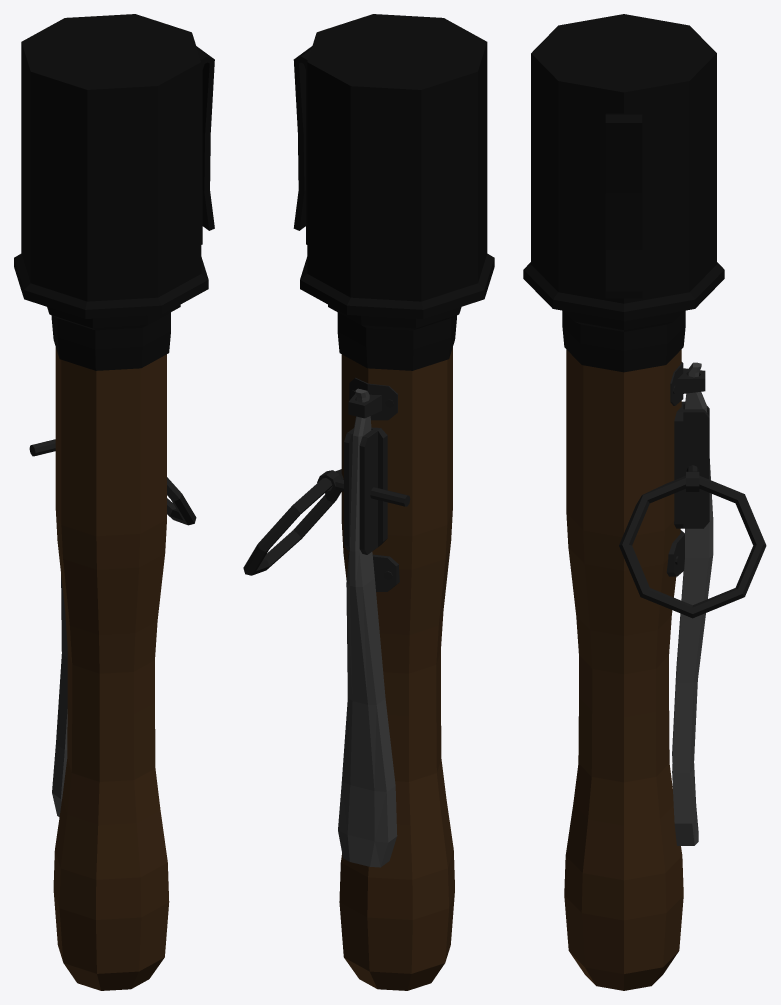
Rendered from Stielhandgranate Impact 1.obj.
3 renders of one model, left to right at view 1: azimuth 30°, elevation 25°; view 2: azimuth 150°, elevation 25°; view 3: azimuth 270°, elevation 25°, orthographic.
Parts seen in each view (by area): view 1: Stielhandgranate_Impact_1, Stielhandgranate_Impact_1_Spoon_Safety_1, Stielhandgranate_Impact_1_Pin_Handle_1; view 2: Stielhandgranate_Impact_1, Stielhandgranate_Impact_1_Spoon_Safety_1, Stielhandgranate_Impact_1_Pin_Handle_1, Stielhandgranate_Impact_1_Pin_1; view 3: Stielhandgranate_Impact_1, Stielhandgranate_Impact_1_Spoon_Safety_1, Stielhandgranate_Impact_1_Pin_Handle_1.
Part boxes in pixels (x1=…): Stielhandgranate_Impact_1: x1=14, y1=14, x2=214, y2=990; Stielhandgranate_Impact_1_Spoon_Safety_1: x1=52, y1=574, x2=67, y2=817; Stielhandgranate_Impact_1_Pin_Handle_1: x1=167, y1=477, x2=196, y2=525; Stielhandgranate_Impact_1: x1=293, y1=14, x2=494, y2=990; Stielhandgranate_Impact_1_Spoon_Safety_1: x1=338, y1=388, x2=397, y2=867; Stielhandgranate_Impact_1_Pin_Handle_1: x1=243, y1=469, x2=343, y2=575; Stielhandgranate_Impact_1_Pin_1: x1=317, y1=470, x2=410, y2=506; Stielhandgranate_Impact_1: x1=523, y1=14, x2=724, y2=990; Stielhandgranate_Impact_1_Spoon_Safety_1: x1=672, y1=362, x2=713, y2=845; Stielhandgranate_Impact_1_Pin_Handle_1: x1=619, y1=475, x2=766, y2=618.
Size of the model in its own units: 0.0772 by 0.3547 by 0.0848.
